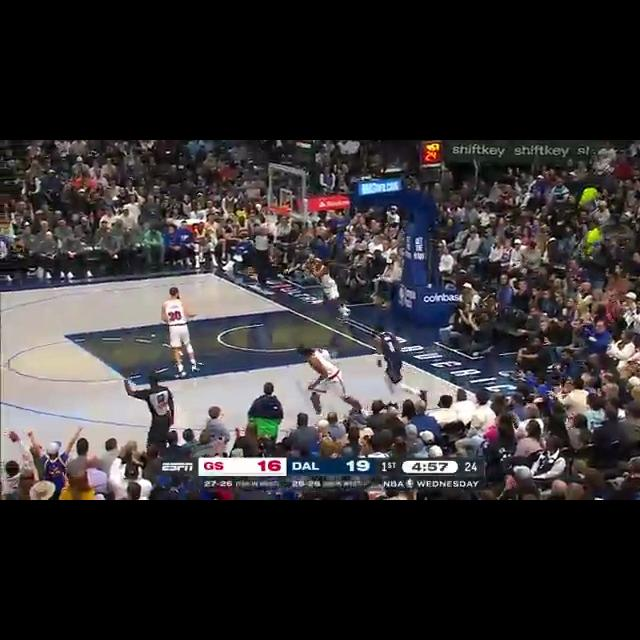Ball: (240, 266, 256, 280)
Team-1-Player: (356, 329, 424, 405)
Team-2-Player: (278, 344, 362, 412), (154, 282, 206, 378), (294, 258, 354, 324)
